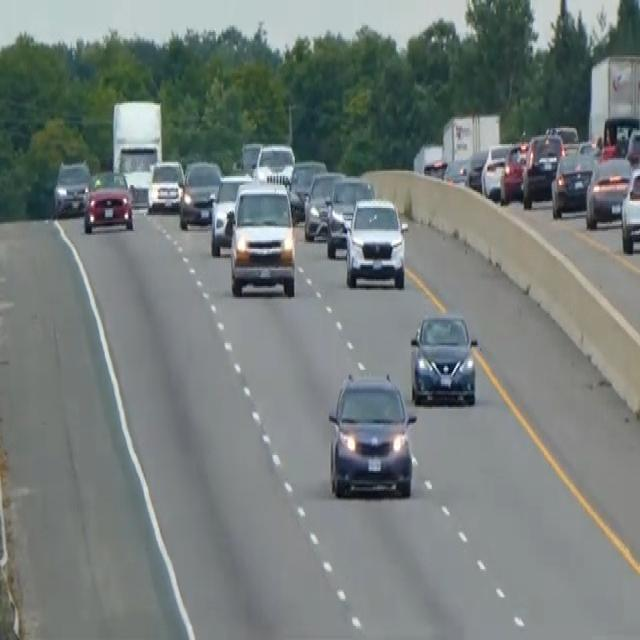car: (409, 311, 478, 405), (344, 196, 408, 288), (325, 174, 375, 258), (209, 171, 252, 256), (585, 153, 632, 227), (520, 130, 564, 208), (83, 167, 134, 233), (550, 148, 597, 218), (178, 158, 222, 230), (303, 169, 345, 240), (288, 158, 327, 220), (53, 156, 90, 217), (146, 156, 184, 214), (253, 140, 295, 187), (480, 141, 514, 199), (499, 140, 529, 202), (601, 114, 639, 158), (620, 165, 639, 252), (465, 146, 488, 192), (443, 154, 469, 187), (238, 139, 262, 174)
lorry: (110, 96, 163, 201)
minivan: (326, 370, 417, 500), (227, 178, 297, 298)
